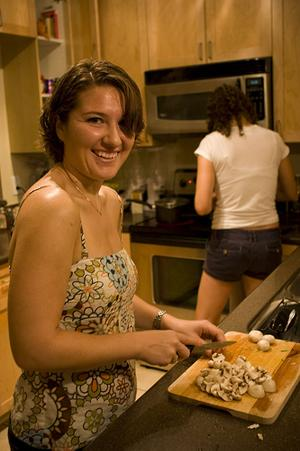person: (8, 57, 227, 449)
